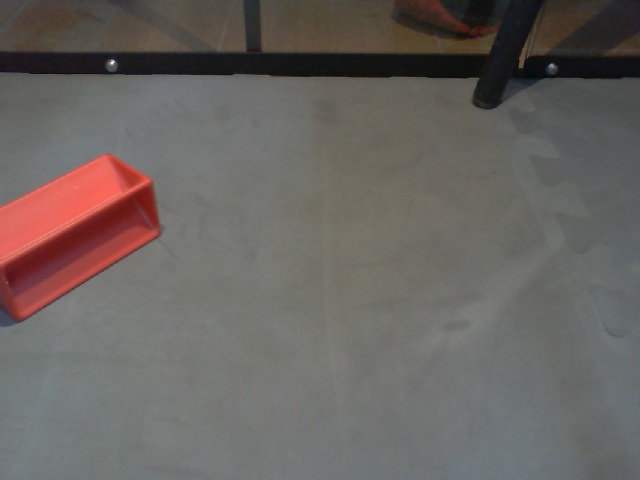RedSample: (1, 150, 162, 326)
